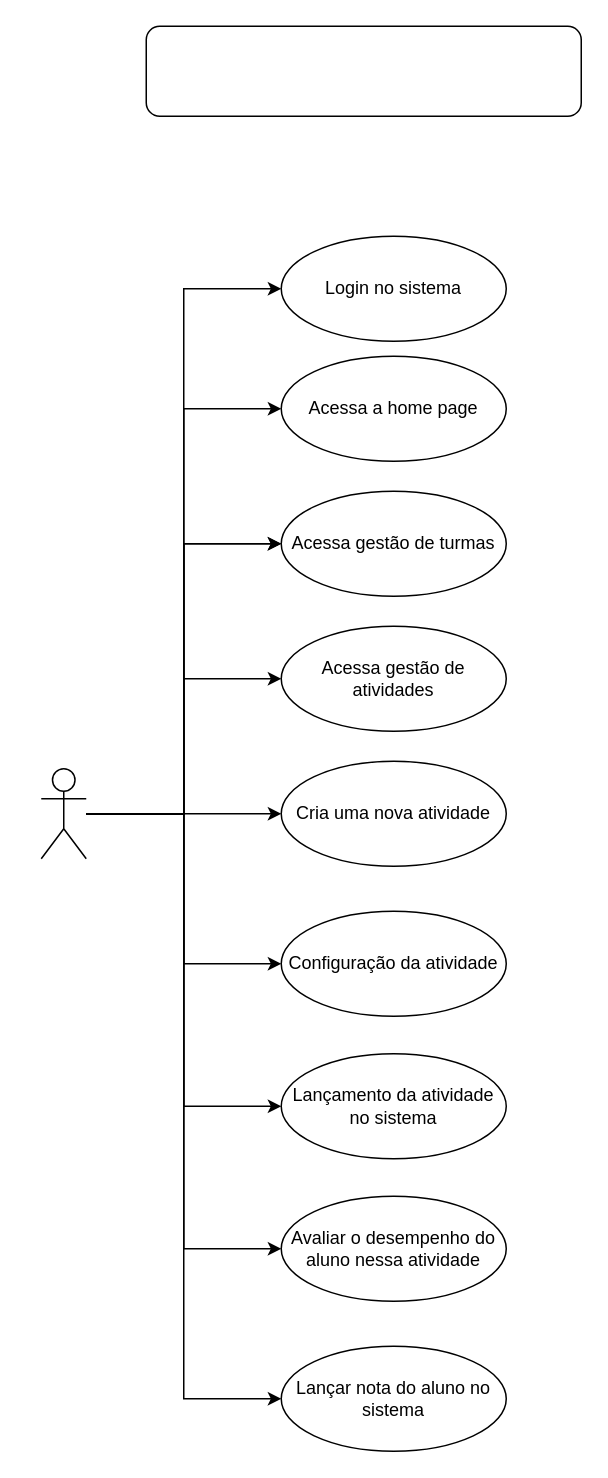
Some shapes in this 608 by 1478 pixel diagram are drawn without their labels. Each missing label, with the centre of its shape:
Caso de uso 2: Professor gerenciando atividades: the point at 363,70
Professor: the point at 63,813
